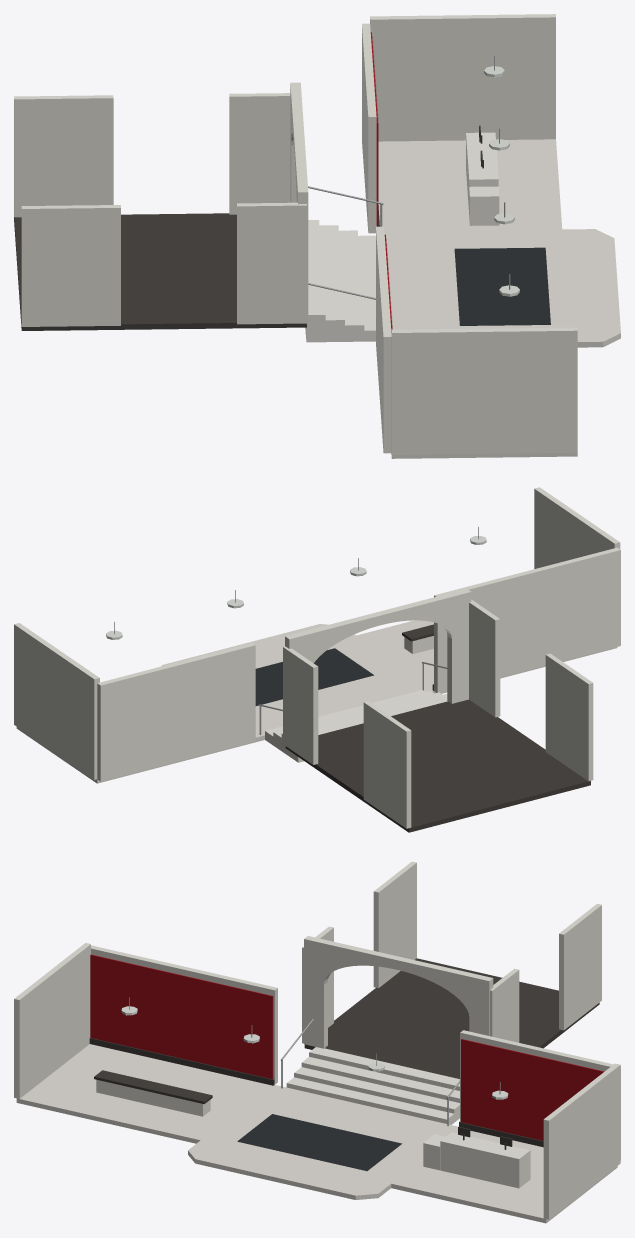
File: old-foyer-interior-e85e8f82cbfe.glb
3 views of the same model, one above another, from view 1: azimuth 30°, elevation 25°; view 2: azimuth 150°, elevation 25°; view 3: azimuth 270°, elevation 25° (orthographic). The views are drawn at different scales.
Visible parts, largest first — view 1: old-foyer; view 2: old-foyer; view 3: old-foyer.
Boxes of the visible parts, x1=… form: old-foyer: x1=14, y1=14, x2=620, y2=458; old-foyer: x1=14, y1=487, x2=620, y2=832; old-foyer: x1=14, y1=861, x2=620, y2=1223.
Size of the model in its own units: 16.46 by 3.99 by 17.25.
